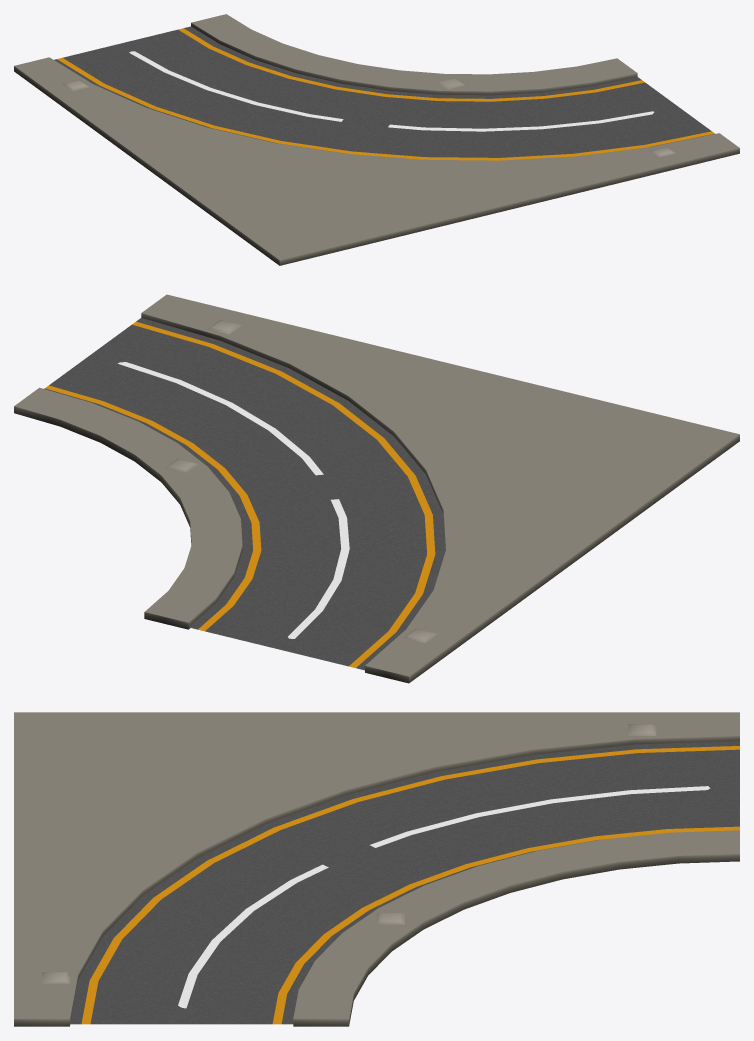
Rendered from Road4.fbx.
3 views of the same model, one above another, from view 1: azimuth 30°, elevation 25°; view 2: azimuth 150°, elevation 25°; view 3: azimuth 270°, elevation 25° (orthographic). The views are drawn at different scales.
Visible parts, largest first — view 1: Road_1V; view 2: Road_1V; view 3: Road_1V.
Boxes of the visible parts, bbox=[...] form: Road_1V: bbox=[14, 14, 739, 265]; Road_1V: bbox=[14, 294, 739, 683]; Road_1V: bbox=[14, 712, 739, 1026].
Bounding box in the file's own units: 48584 × 666 × 48584.
